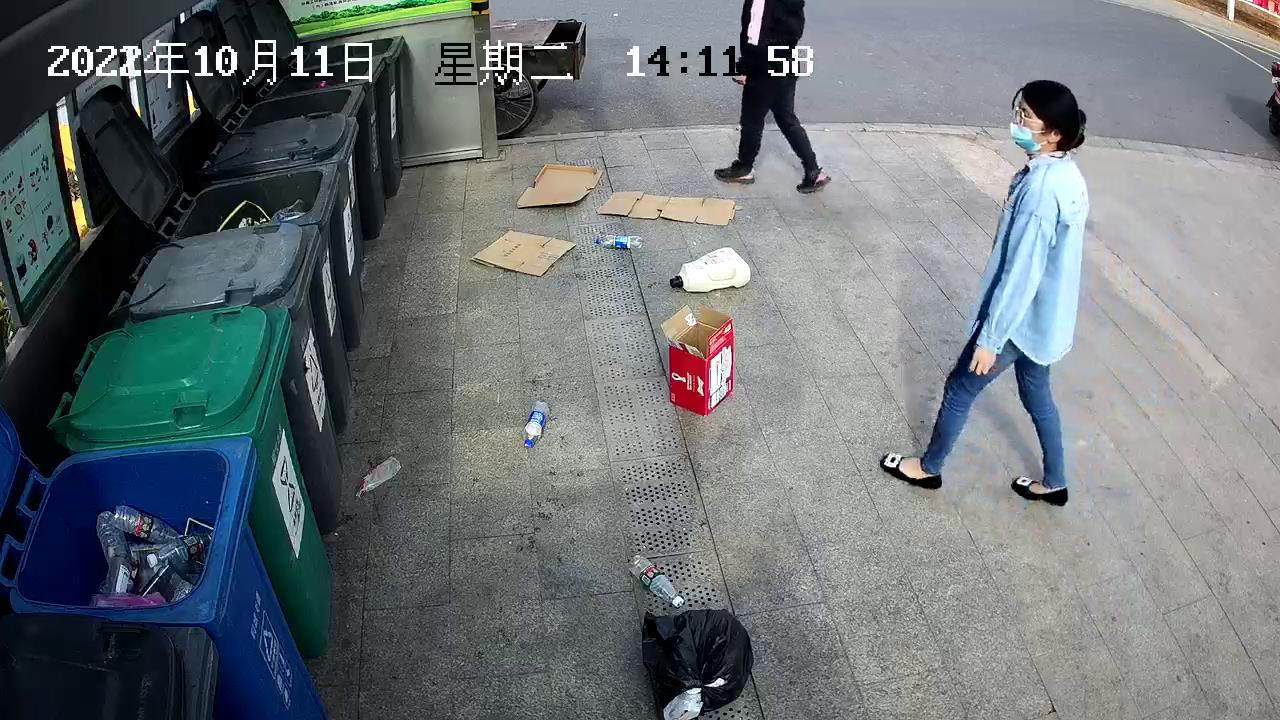garbage-bag: (637, 606, 756, 720)
suliaozhipin: (667, 245, 753, 296), (624, 551, 685, 610), (354, 454, 402, 500), (522, 397, 550, 448), (594, 230, 646, 251)
worker: (877, 78, 1092, 509)
zhizhipin: (658, 302, 738, 418), (467, 226, 579, 277), (595, 188, 739, 227), (515, 161, 607, 210)
